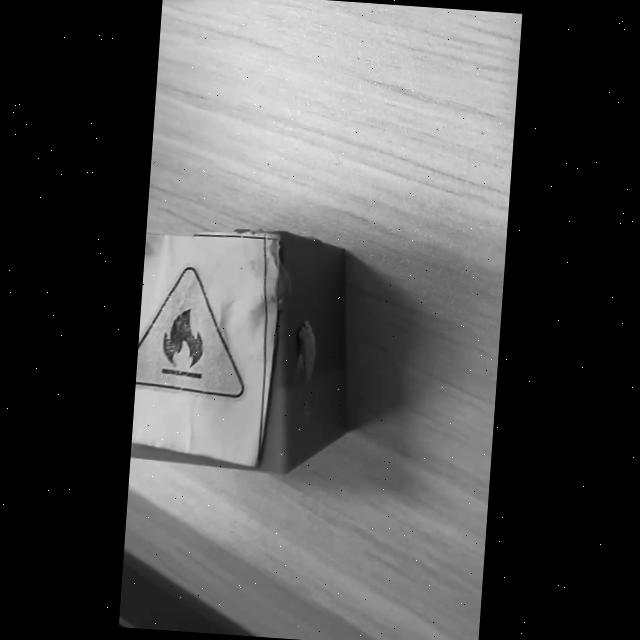Fire: (136, 267, 244, 398)
